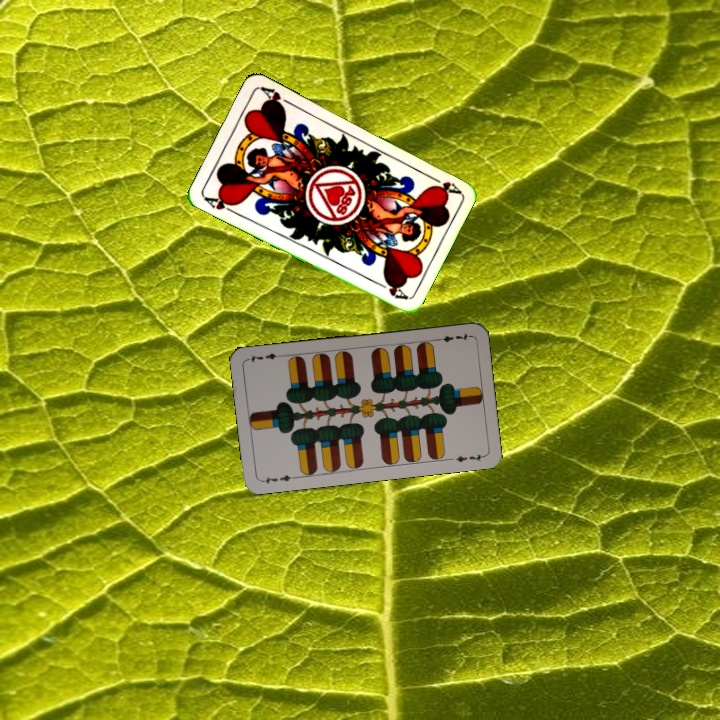E7: (432, 329, 472, 345), (258, 471, 298, 486)
HA: (201, 191, 239, 217), (424, 171, 462, 197)
